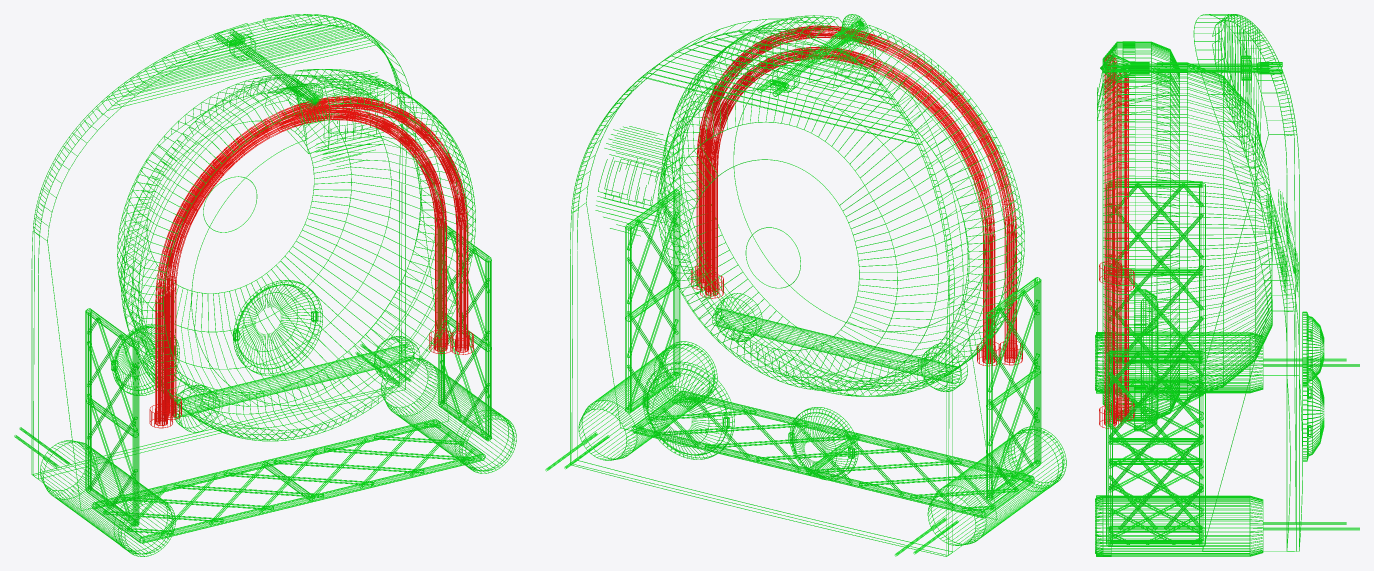
File: seismic-penetrator-highlight-ore-slurry-recovery-pipes.glb
3 views of the same model, side by side, from view 1: azimuth 30°, elevation 25°; view 2: azimuth 150°, elevation 25°; view 3: azimuth 270°, elevation 25° (orthographic). The views are drawn at different scales.
Visible parts, largest first — view 1: chassis technical wire, ore-slurry-recovery-pipes technical wire, control-computers-and-antennae technical wire, shaft-head-drive technical wire; view 2: chassis technical wire, ore-slurry-recovery-pipes technical wire, control-computers-and-antennae technical wire, shaft-head-drive technical wire; view 3: chassis technical wire, ore-slurry-recovery-pipes technical wire, control-computers-and-antennae technical wire, shaft-head-drive technical wire.
Boxes of the visible parts, bbox=[...] form: chassis technical wire: bbox=[31, 14, 516, 556]; ore-slurry-recovery-pipes technical wire: bbox=[149, 96, 473, 428]; control-computers-and-antennae technical wire: bbox=[14, 280, 411, 467]; shaft-head-drive technical wire: bbox=[215, 29, 323, 109]; chassis technical wire: bbox=[570, 15, 1066, 556]; ore-slurry-recovery-pipes technical wire: bbox=[691, 25, 1022, 366]; control-computers-and-antennae technical wire: bbox=[545, 361, 958, 556]; shaft-head-drive technical wire: bbox=[757, 14, 868, 96]; chassis technical wire: bbox=[1095, 14, 1302, 556]; ore-slurry-recovery-pipes technical wire: bbox=[1099, 55, 1134, 428]; control-computers-and-antennae technical wire: bbox=[1263, 311, 1359, 530]; shaft-head-drive technical wire: bbox=[1100, 54, 1282, 80].
Size of the model in its own units: 2.37 by 2.55 by 1.4.
